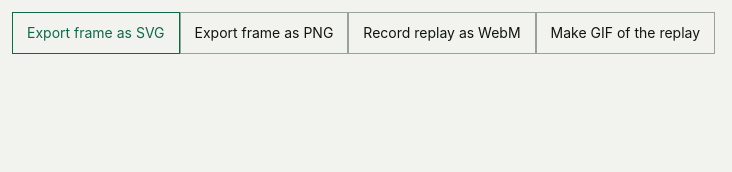
with the switch on › exports the frame on screen as an SVG and says what was saved
Click the button "Export frame as SVG" at (96, 33), box [12,12,180,54]
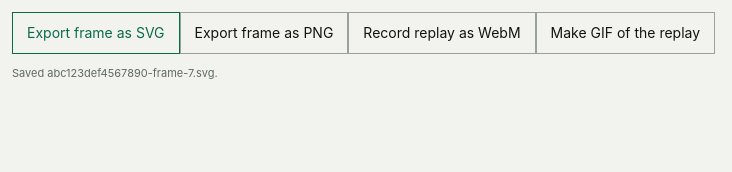
Now the message reads "Saved abc123def4567890-frame-7.svg.", box [12,66,218,80]
